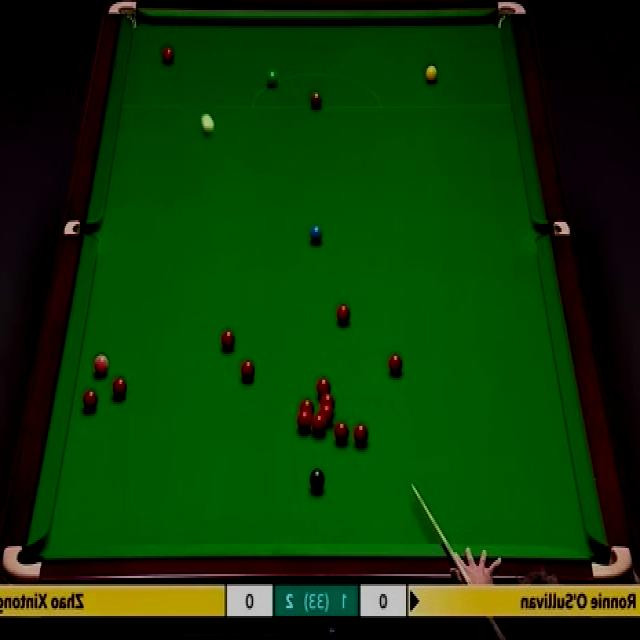black-ball: (309, 467, 325, 493)
blue-ball: (310, 224, 323, 242)
brown-ball: (310, 92, 323, 109)
green-ball: (264, 73, 276, 93)
pink-ball: (92, 354, 110, 378)
red-ball: (110, 374, 129, 400), (333, 305, 352, 328), (82, 387, 99, 410), (312, 414, 326, 439), (388, 354, 404, 375), (296, 411, 312, 432), (334, 421, 349, 443), (353, 423, 368, 445), (242, 361, 256, 382), (300, 398, 314, 416), (222, 330, 234, 350), (321, 408, 334, 426), (318, 377, 329, 398), (321, 397, 334, 413), (162, 46, 175, 61)
white-ball: (201, 111, 215, 136)
yellow-ball: (426, 64, 438, 85)
